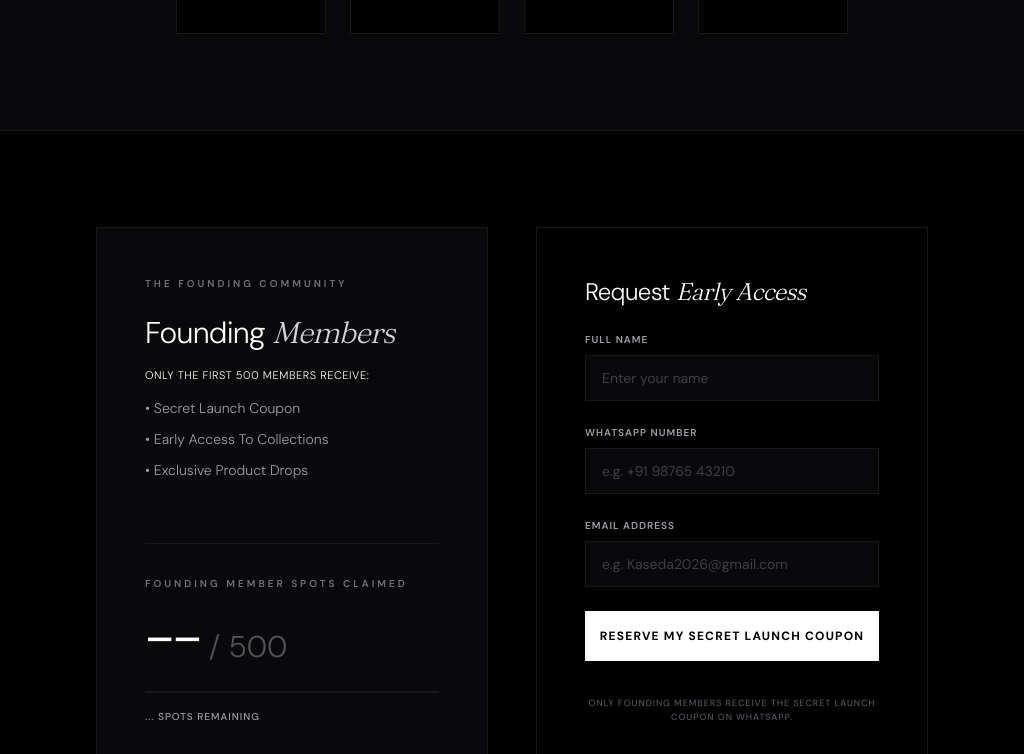
Test: Home Page Unit Tests › Registration Form Validation & State › displays validation error for invalid phone
(page scrolled)
Type "John Doe" into the field labelled "Full Name" at (732, 378), box [585,355,879,401]
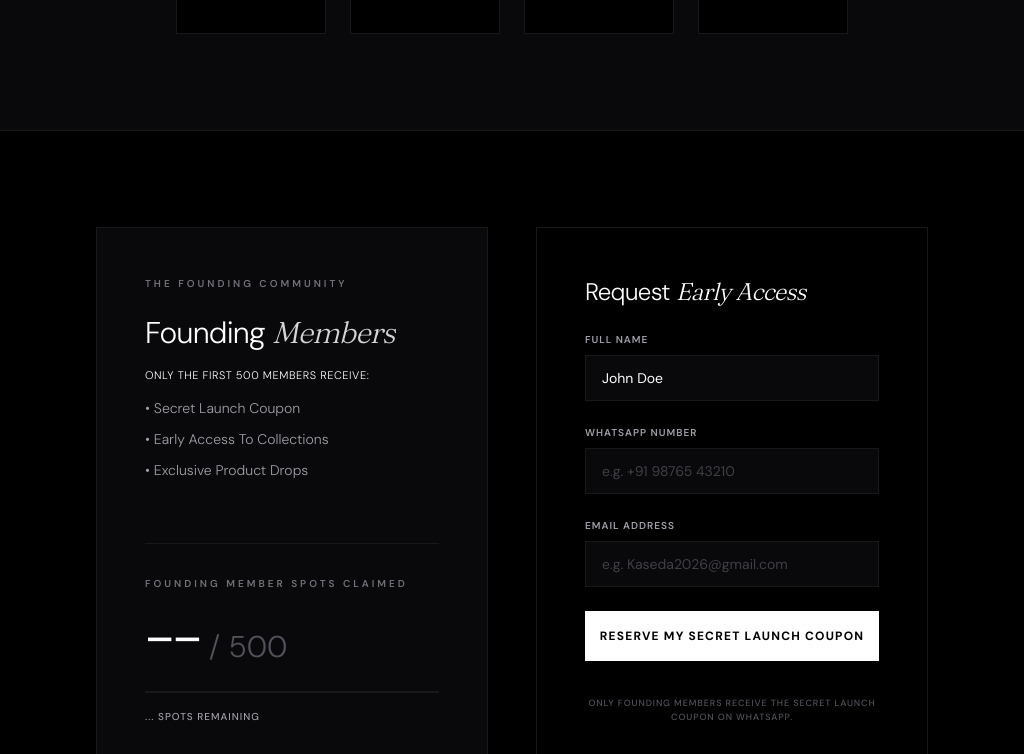
Type "123" into the field labelled "WhatsApp Number" at (732, 471), box [585,448,879,494]
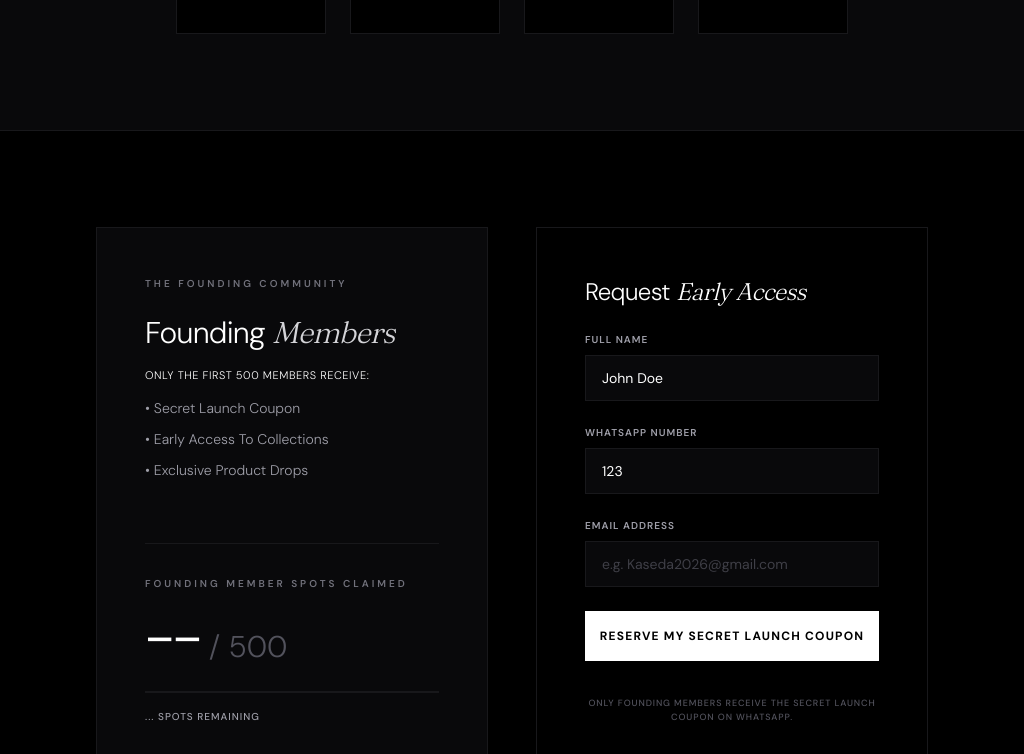
Type "test@example.com" into the field labelled "Email Address" at (732, 564), box [585,541,879,587]
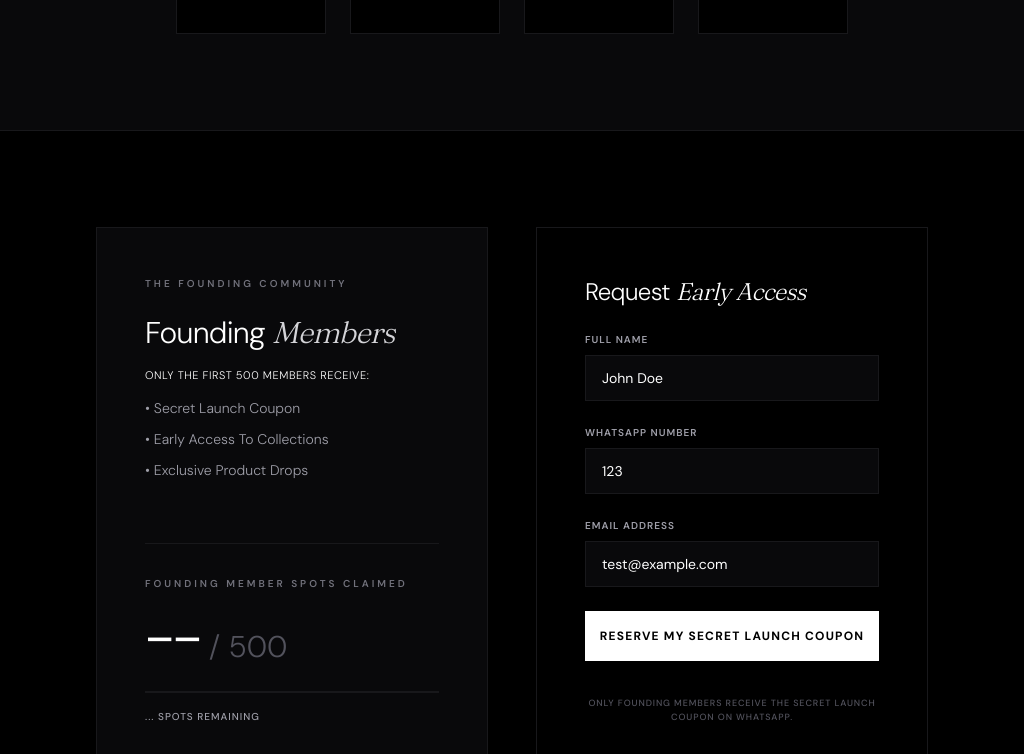
Submit the text "Reserve My Secret Launch Coupon", box [585,332,879,724]
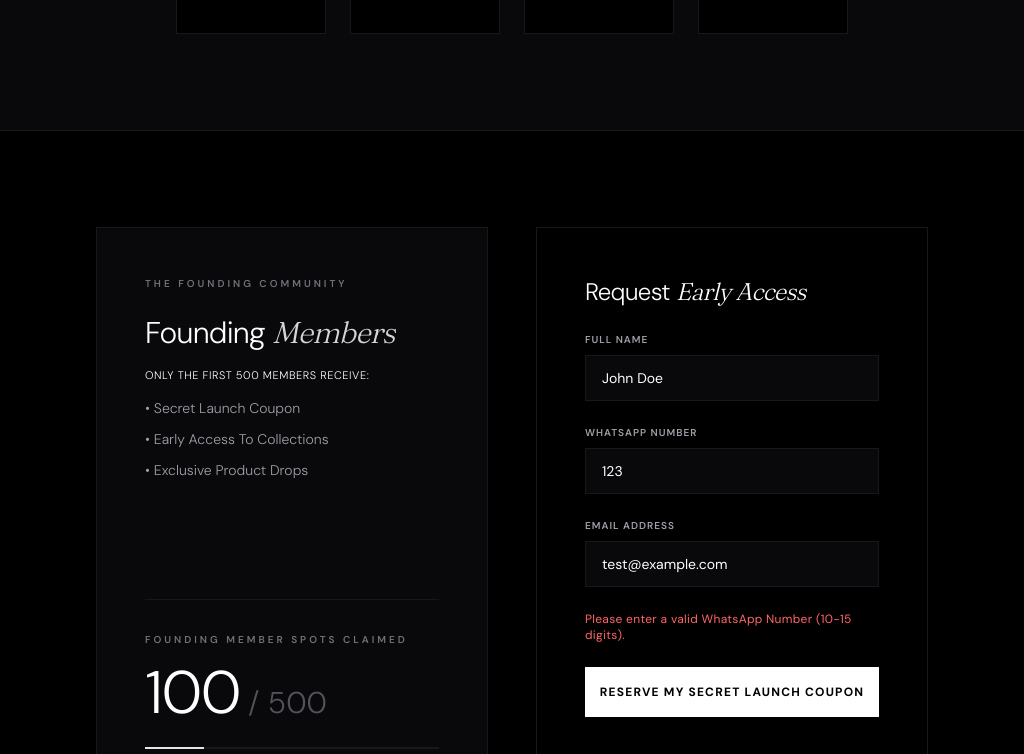
Expected: the text "Please enter a valid WhatsApp Number (10-15 digits)." is shown, [585,611,879,643]
